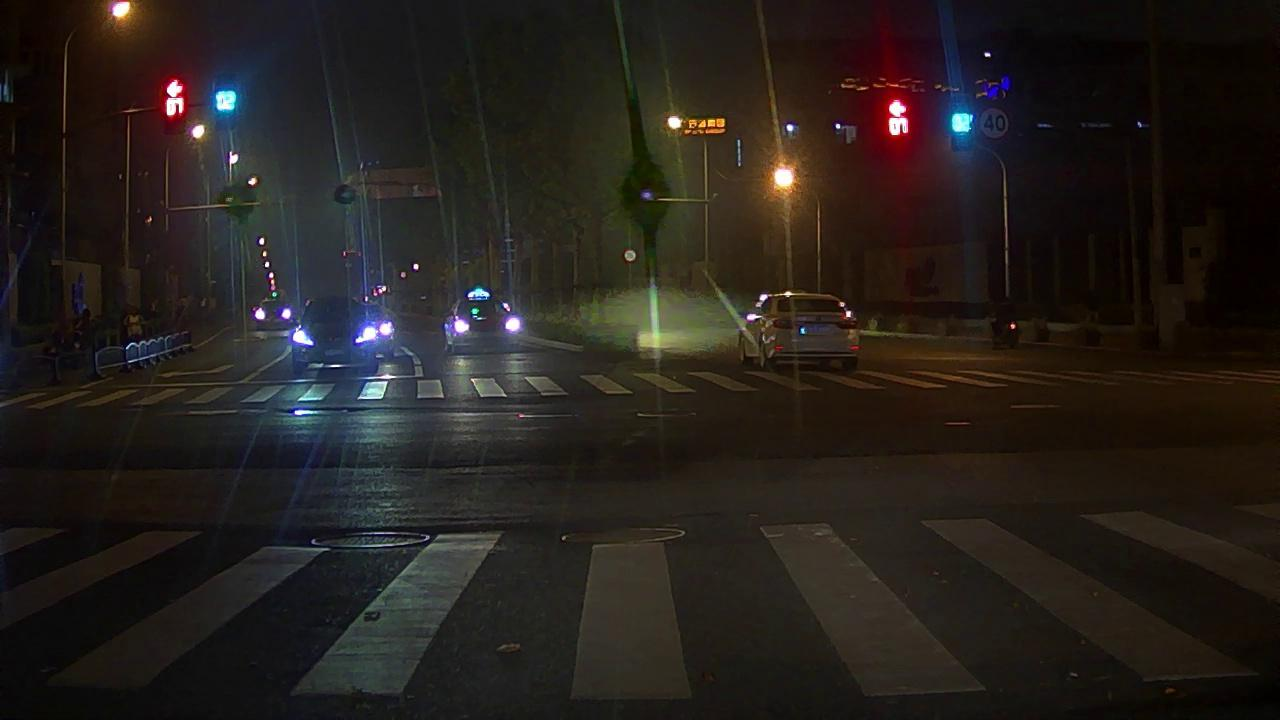traffic_light: (885, 94, 907, 153), (163, 78, 185, 132), (215, 79, 235, 129), (951, 99, 969, 148)
